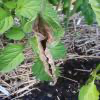Tomato leaf late blight: (25, 10, 64, 85)
